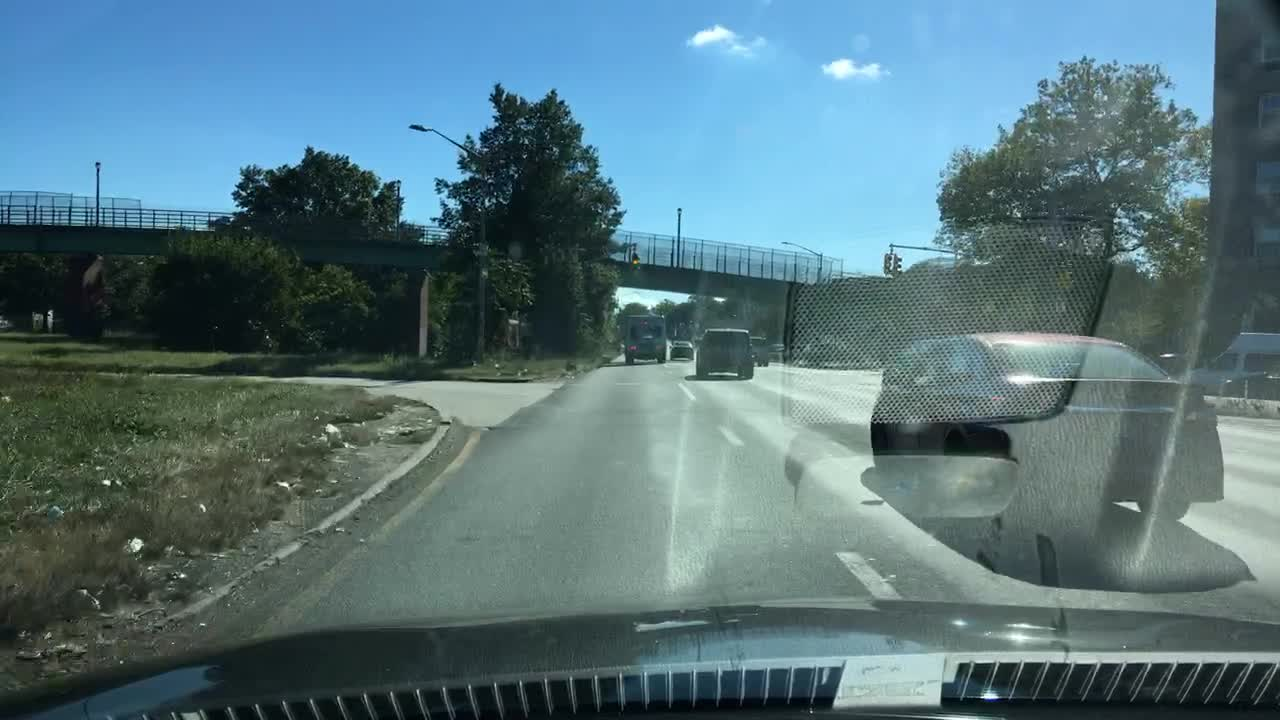bus: (626, 312, 665, 365)
car: (865, 329, 1224, 528), (694, 326, 754, 380), (797, 335, 850, 370), (1221, 372, 1280, 398), (747, 333, 773, 367), (667, 338, 693, 359), (770, 341, 793, 362)
traffic light: (882, 252, 893, 275), (893, 255, 902, 276), (632, 249, 641, 267)
truck: (1181, 333, 1280, 399)
